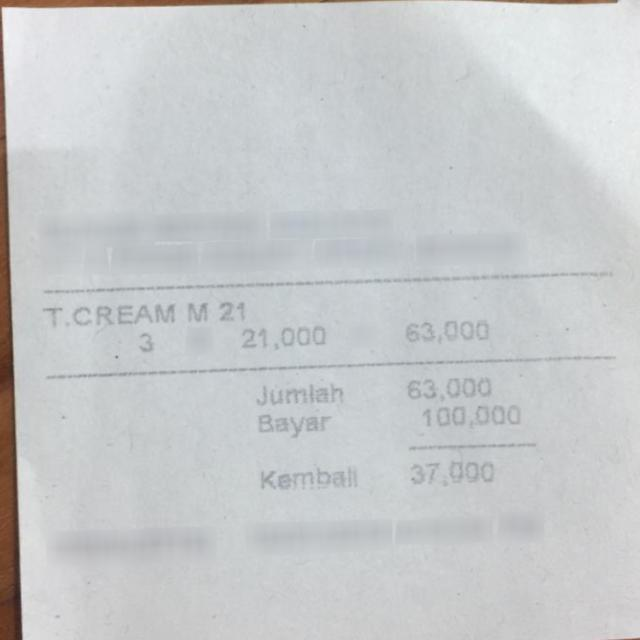text: (42, 301, 175, 326), (418, 402, 519, 434), (260, 462, 356, 488), (409, 457, 494, 486), (405, 374, 490, 402), (255, 380, 342, 405), (256, 408, 331, 437), (240, 325, 325, 349), (404, 319, 487, 343), (218, 300, 244, 320), (187, 302, 207, 322)
